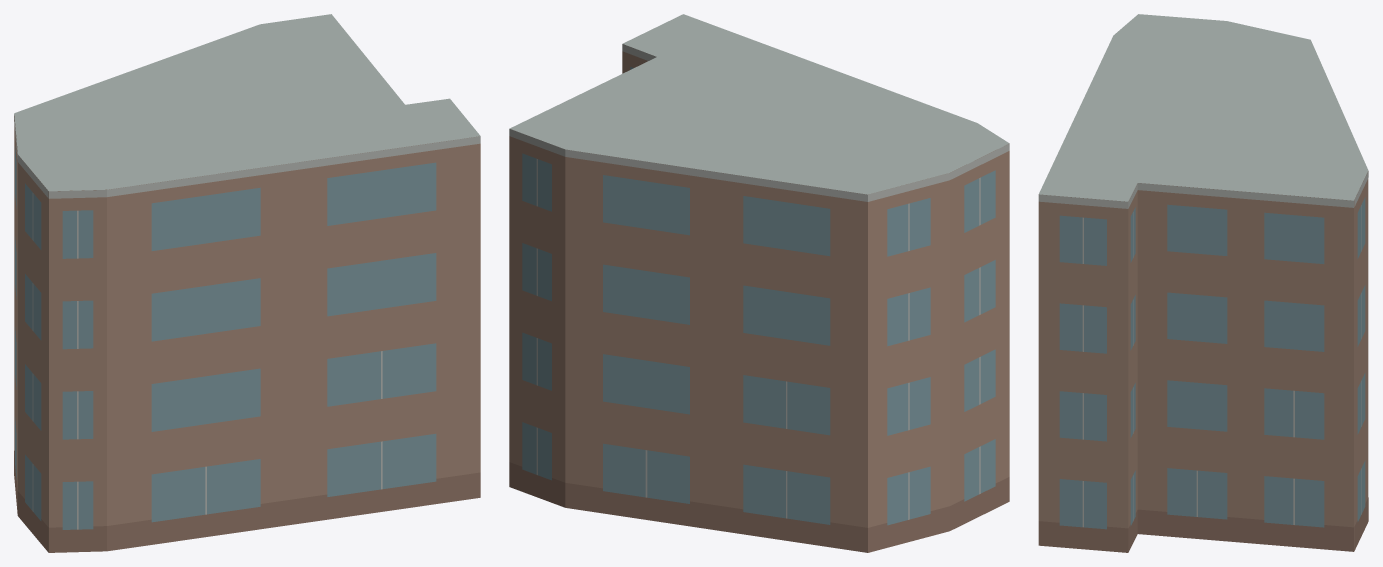
File: survey-upis-32953666.glb
3 views of the same model, side by side, from view 1: azimuth 30°, elevation 25°; view 2: azimuth 150°, elevation 25°; view 3: azimuth 270°, elevation 25° (orthographic). The views are drawn at different scales.
Parts seen in each view (by area): view 1: survey-upis-32953666.tmp; view 2: survey-upis-32953666.tmp; view 3: survey-upis-32953666.tmp.
Part boxes in pixels (x1,y1,x2,y2): survey-upis-32953666.tmp: [14, 14, 480, 552]; survey-upis-32953666.tmp: [509, 14, 1009, 552]; survey-upis-32953666.tmp: [1038, 14, 1368, 552].
Size of the model in its own units: 13.54 by 11.8 by 10.06.
